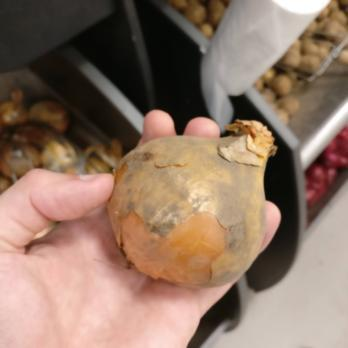Onion: (104, 124, 275, 284)
